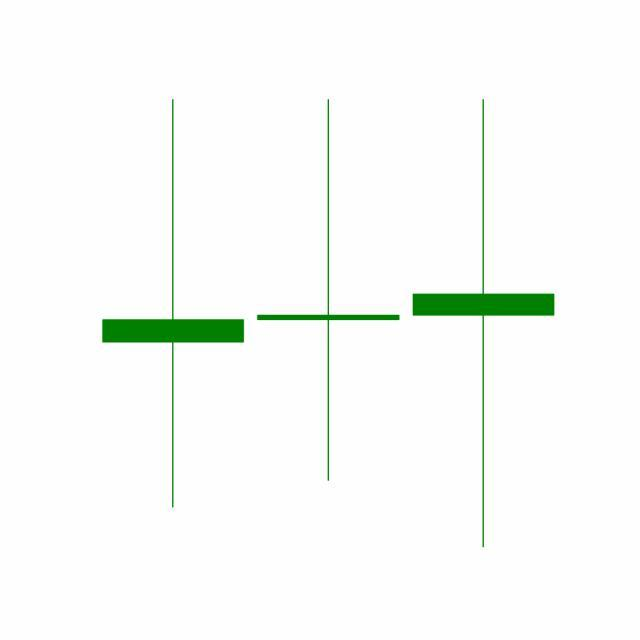Spinning Top: (250, 96, 407, 486)
